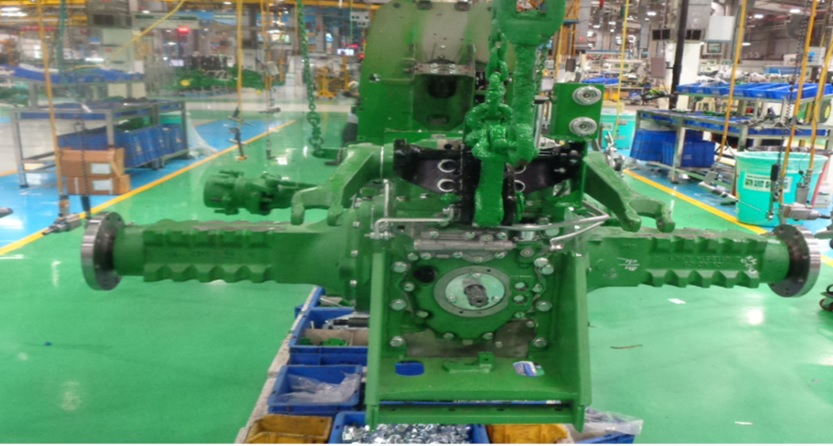engine: (77, 34, 818, 429)
